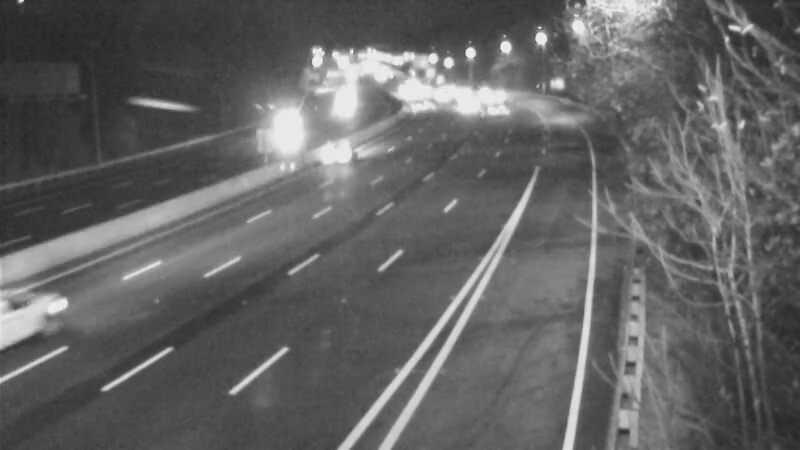vehicle: (1, 267, 96, 377), (298, 112, 378, 192), (395, 80, 445, 130), (465, 80, 515, 130), (262, 95, 312, 145)
